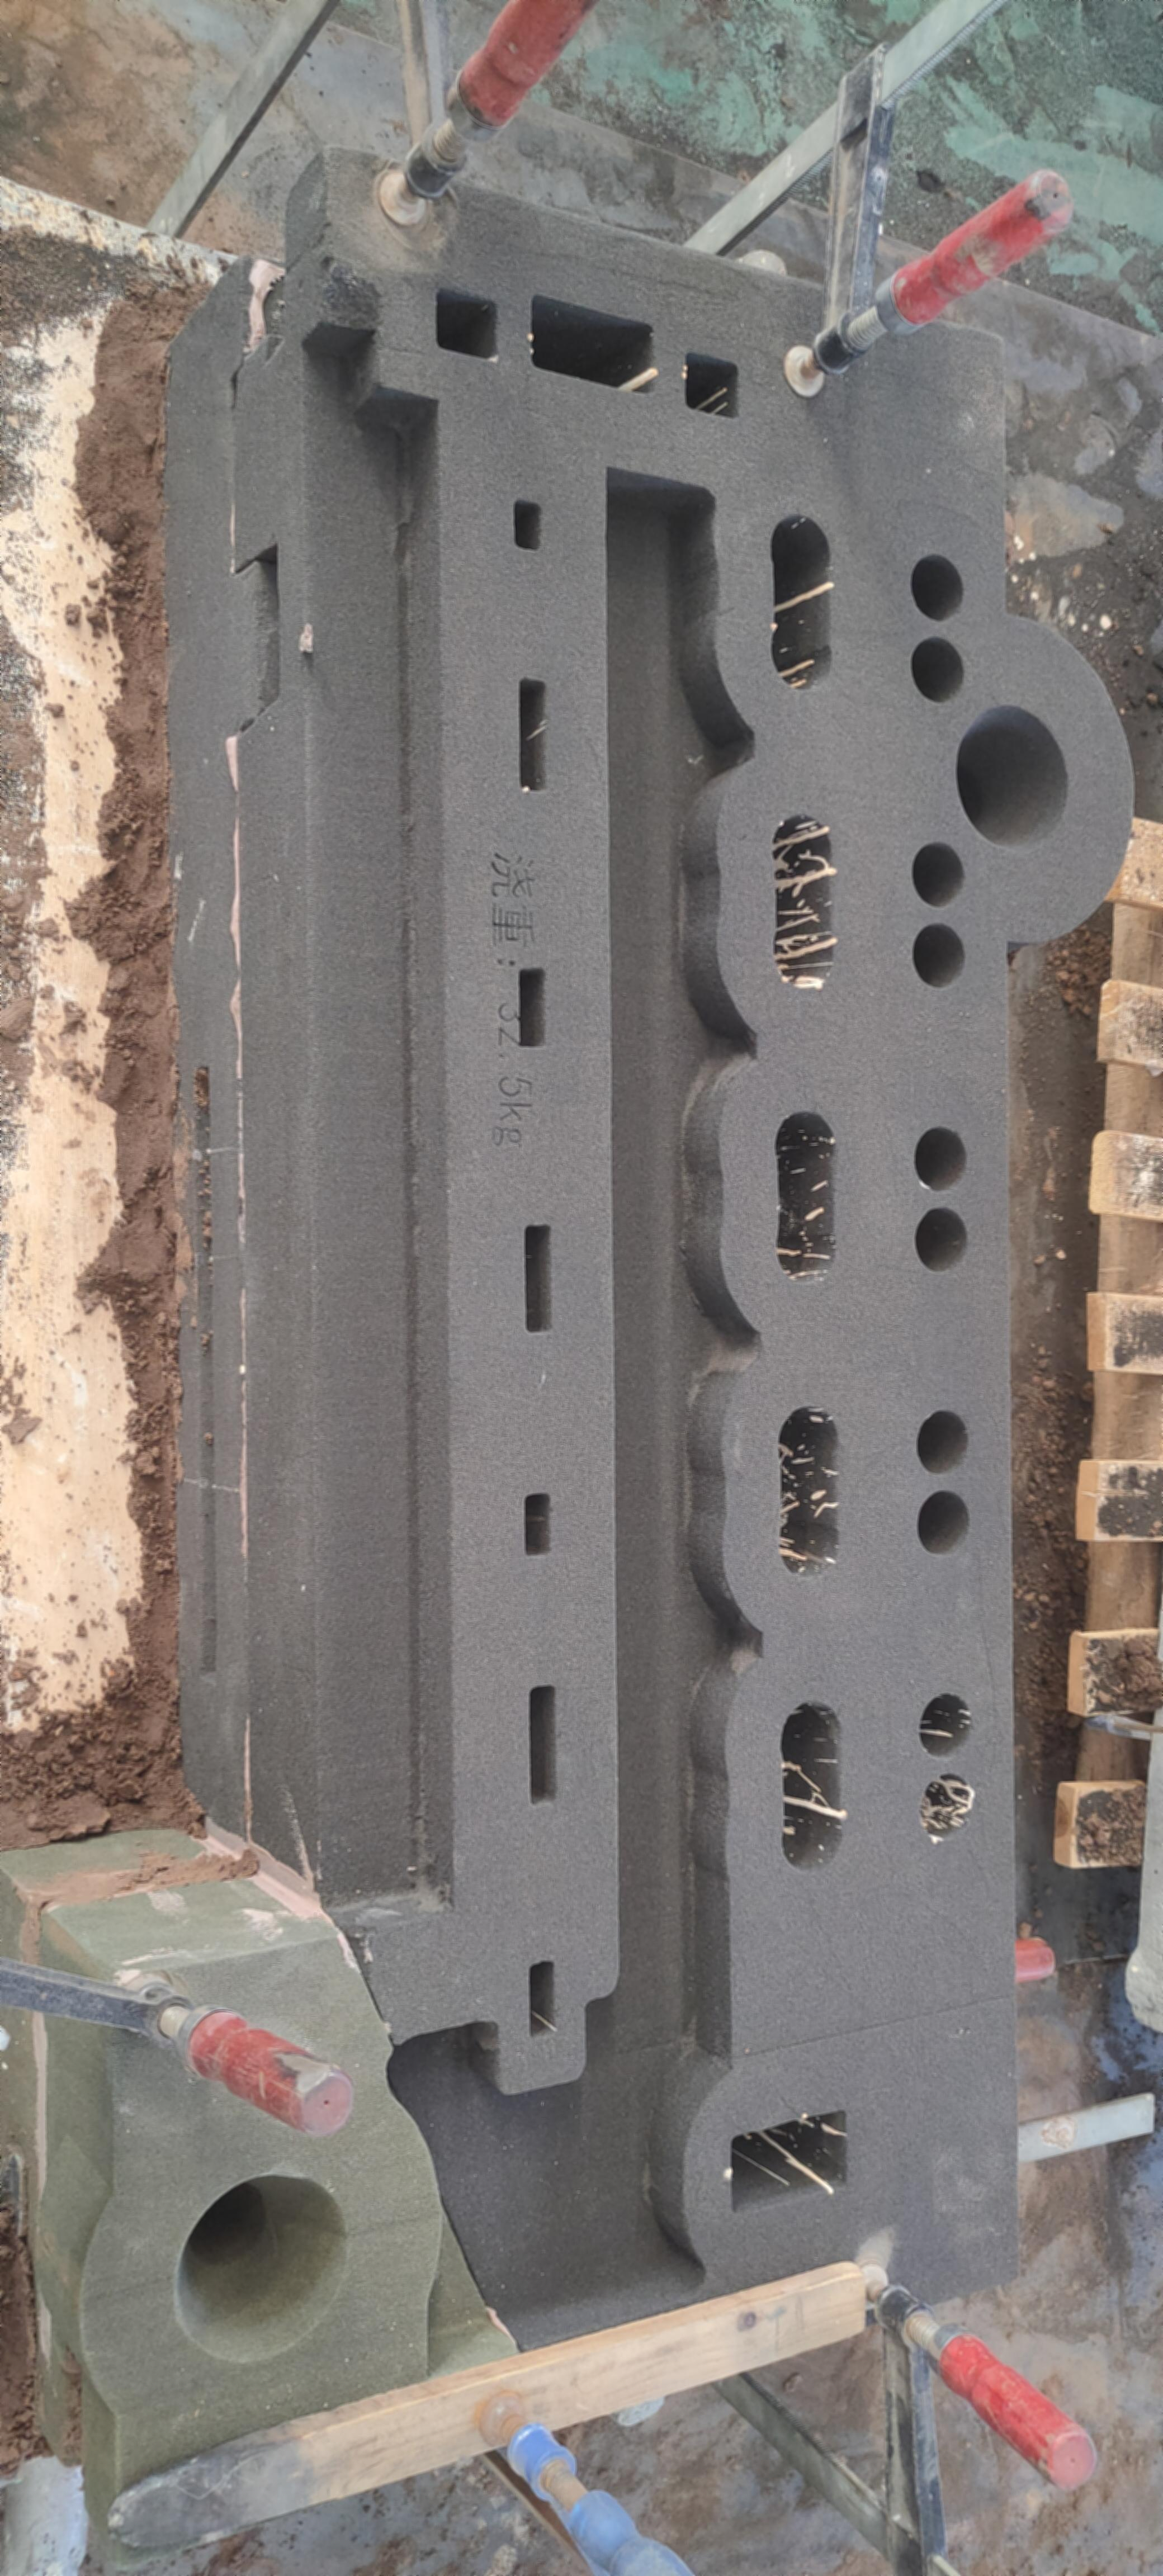pouring hole: (171, 2170, 353, 2366), (956, 705, 1071, 851)
